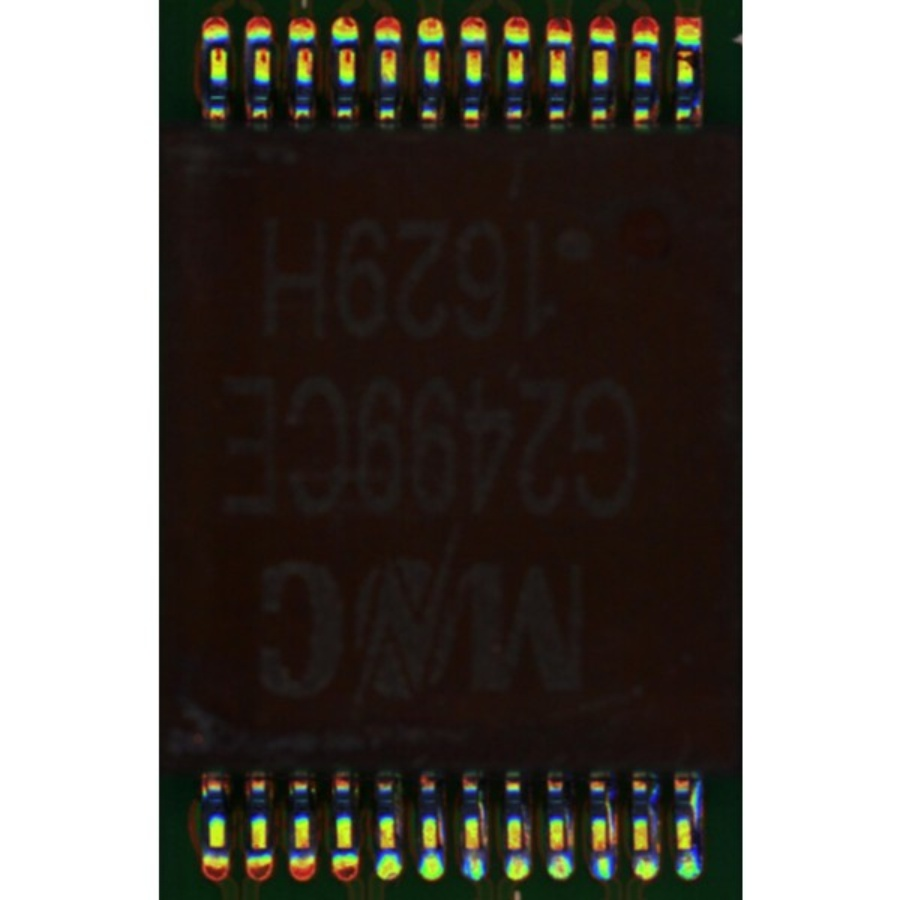Bad_qiaojiao: (479, 793, 489, 850), (606, 795, 615, 851), (565, 806, 574, 850), (523, 806, 530, 849), (438, 807, 445, 848)
